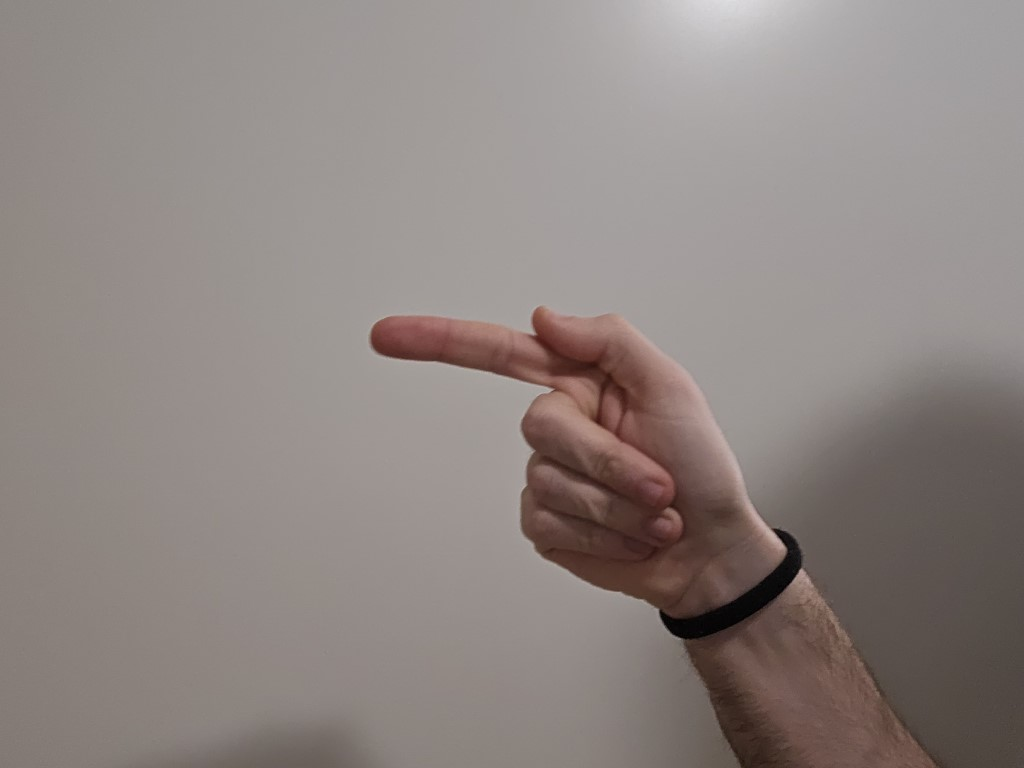g: (331, 291, 763, 603)
